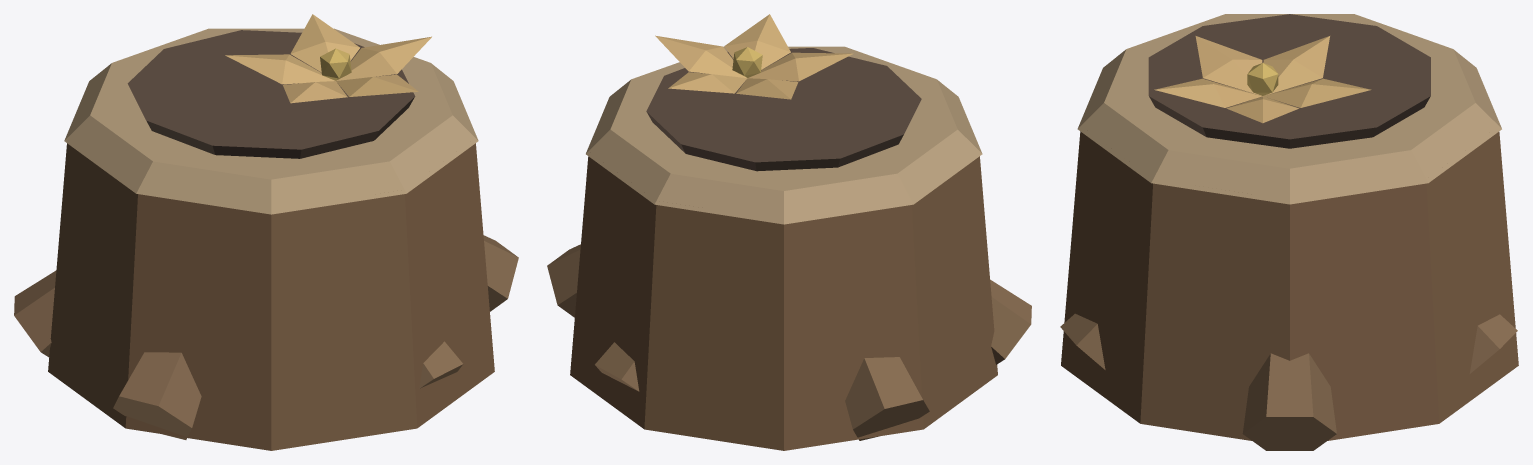
Rendered from map-exclusive-v3__village_08.glb.
The picture shows the model from 3 angles, left to right: view 1: azimuth 30°, elevation 25°; view 2: azimuth 150°, elevation 25°; view 3: azimuth 270°, elevation 25°; orthographic projection. The views are drawn at different scales.
Visible parts, largest first — view 1: village_08; view 2: village_08; view 3: village_08.
Part boxes in pixels (left/top/right/bottom): village_08: left=14, top=14, right=518, bottom=450; village_08: left=547, top=14, right=1031, bottom=450; village_08: left=1060, top=14, right=1518, bottom=450.
Bounding box in the file's own units: 1.55 × 1.04 × 1.36.
